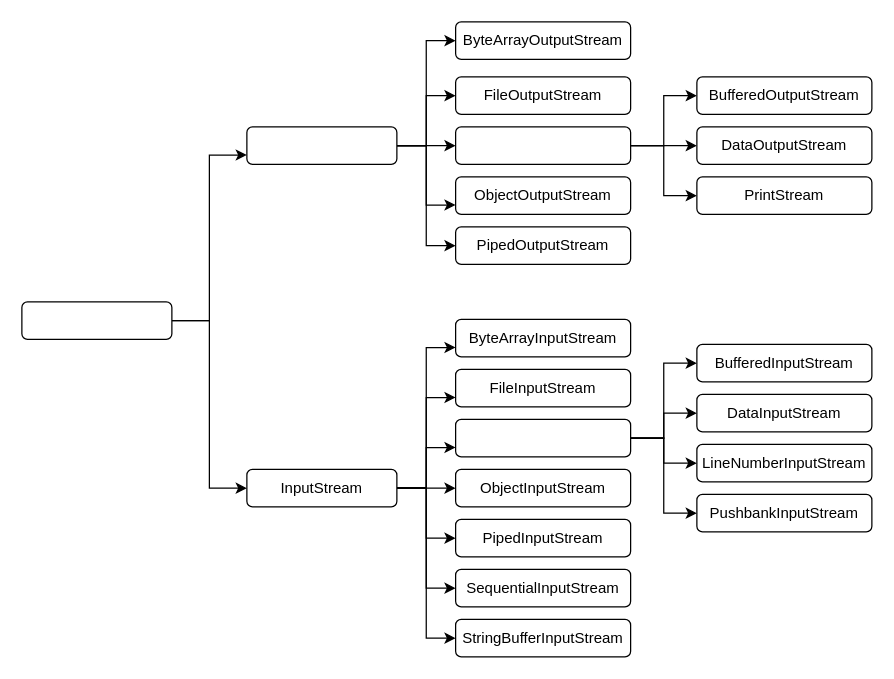
Some shapes in this 894 by 679 pixel diagram are drawn without their labels. The centre of each missing label's shape, as x and y in pixels:
"FilterInputStream" goes at (542,437).
"FilterOutputStream" goes at (542,145).
"Object" goes at (96,320).
"OutputStream" goes at (321,145).
